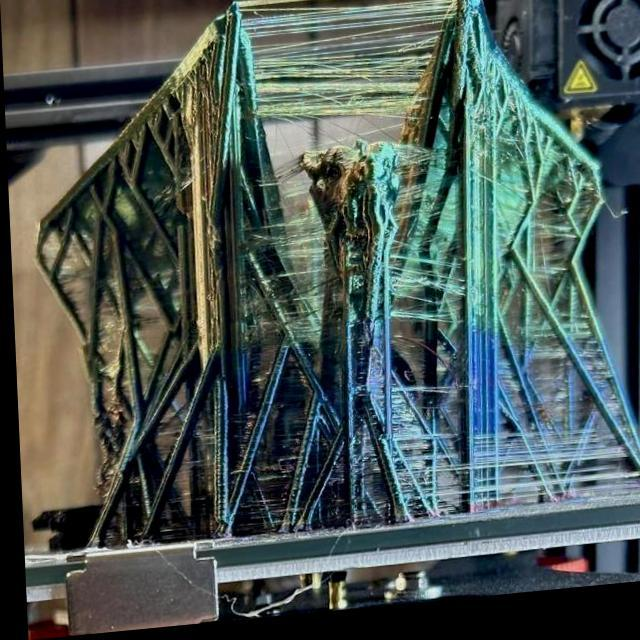stringing: (256, 70, 428, 133), (253, 0, 364, 82), (357, 4, 443, 71), (264, 212, 328, 286), (384, 259, 448, 326), (537, 439, 614, 482), (468, 442, 527, 484)
